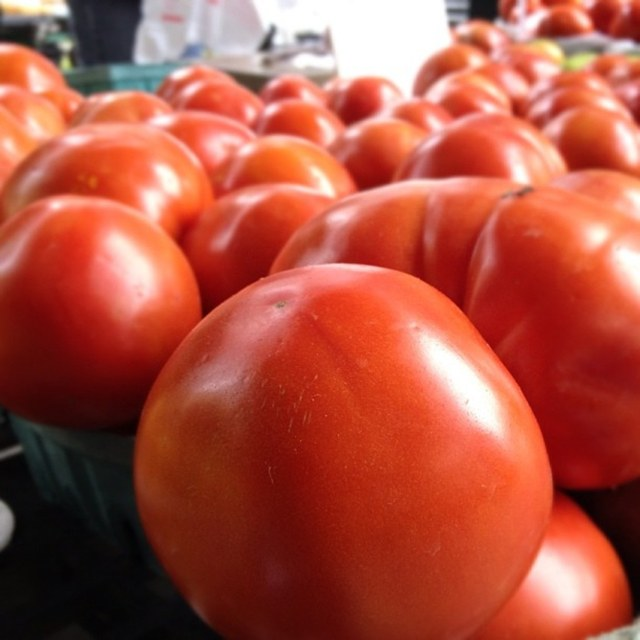tomato: (1, 1, 640, 640)
